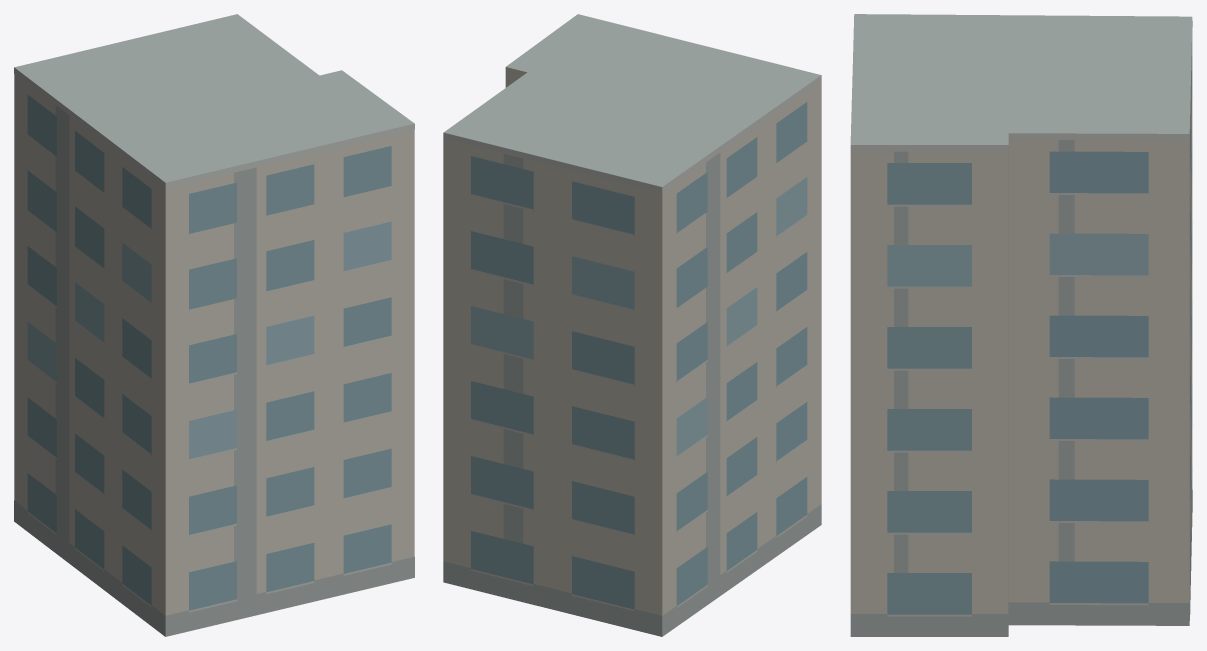
Rendered from survey-upis-32783442.glb.
3 renders of one model, left to right at view 1: azimuth 30°, elevation 25°; view 2: azimuth 150°, elevation 25°; view 3: azimuth 270°, elevation 25°, orthographic. The views are drawn at different scales.
Parts seen in each view (by area): view 1: survey-upis-32783442.tmp; view 2: survey-upis-32783442.tmp; view 3: survey-upis-32783442.tmp.
Part boxes in pixels (bbox=[...]): survey-upis-32783442.tmp: bbox=[14, 14, 414, 636]; survey-upis-32783442.tmp: bbox=[443, 14, 821, 636]; survey-upis-32783442.tmp: bbox=[850, 14, 1192, 636].
Size of the model in its own units: 10.23 by 17.9 by 11.28.
